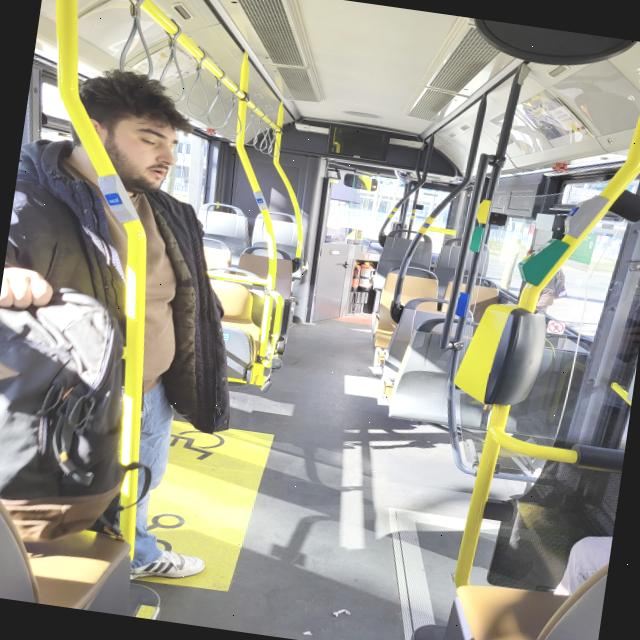empty-seat-frontal: (372, 265, 446, 358)
